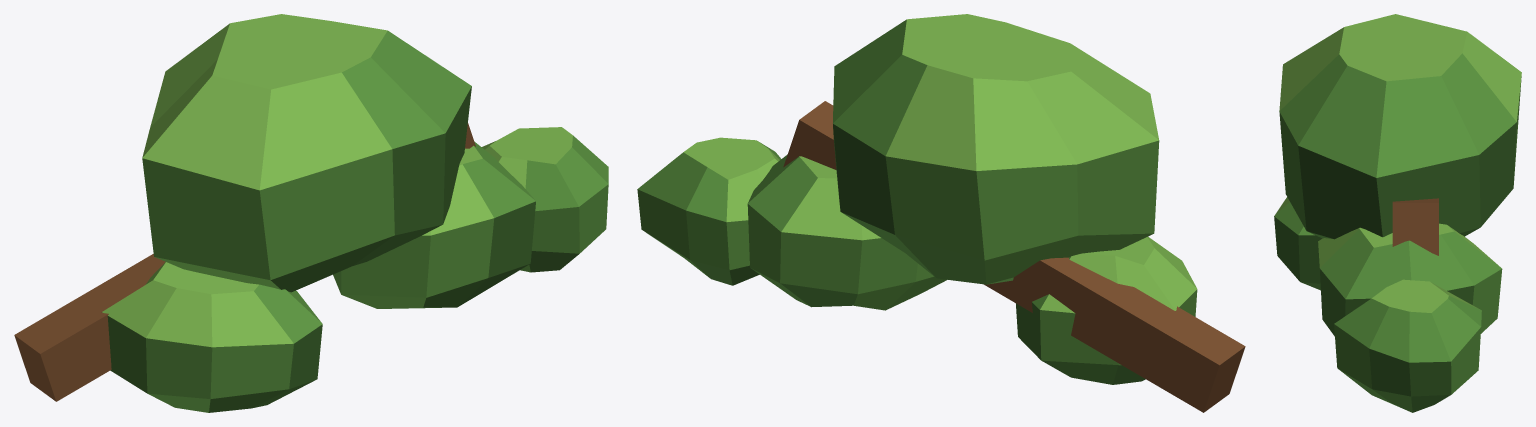
Rendered from fg-branch-left.glb.
3 views of the same model, side by side, from view 1: azimuth 30°, elevation 25°; view 2: azimuth 150°, elevation 25°; view 3: azimuth 270°, elevation 25° (orthographic). The views are drawn at different scales.
Parts seen in each view (by area): view 1: Leaves.001, Leaves.002, Leaves, Leaves.003, Bough; view 2: Leaves.001, Bough, Leaves, Leaves.003, Leaves.002; view 3: Leaves.001, Leaves.003, Leaves, Leaves.002, Bough.
Boxes of the visible parts, x1,y1,x2,y2 form: Leaves.001: (142,14,471,292); Leaves.002: (102,262,322,412); Leaves: (333,141,535,308); Leaves.003: (482,127,608,272); Bough: (14,123,475,401); Leaves.001: (833,14,1159,284); Bough: (783,101,1245,412); Leaves: (747,154,947,310); Leaves.003: (637,137,781,285); Leaves.002: (1016,236,1197,384); Leaves.001: (1279,14,1521,239); Leaves.003: (1334,279,1481,412); Leaves: (1318,223,1502,336); Leaves.002: (1274,197,1321,290); Bough: (1392,198,1438,255).
Size of the model in its own units: 1.67 by 0.8682 by 0.6965.
